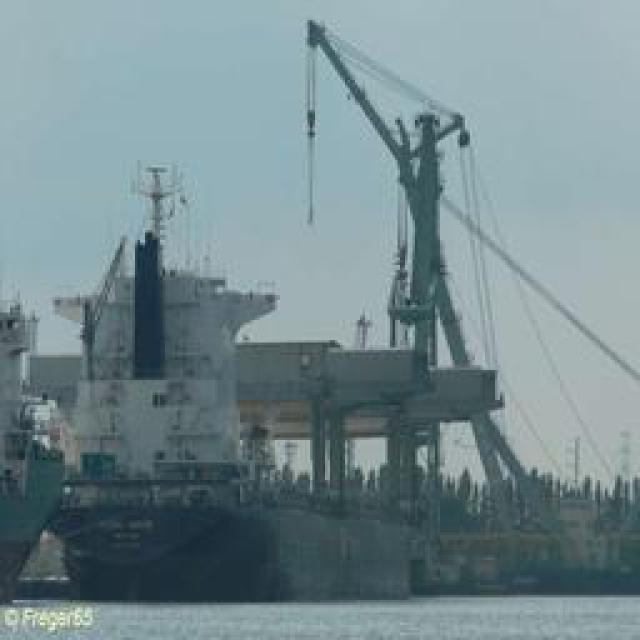Ship: (35, 10, 578, 605)
